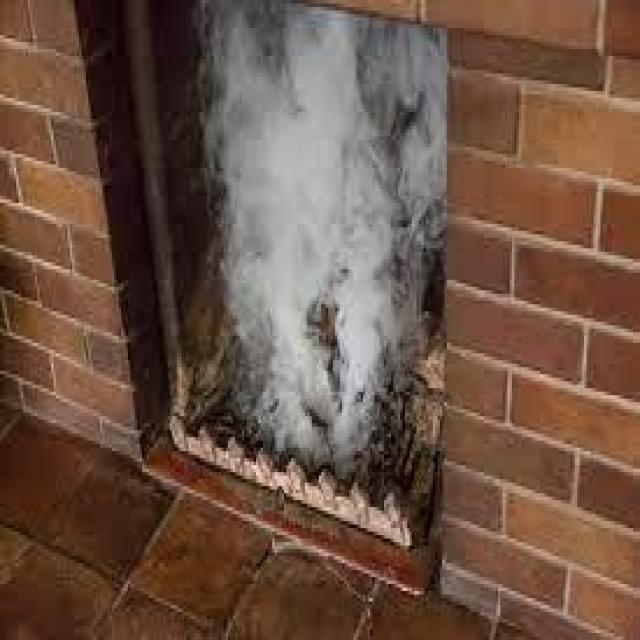Smoke: (190, 0, 453, 471)
